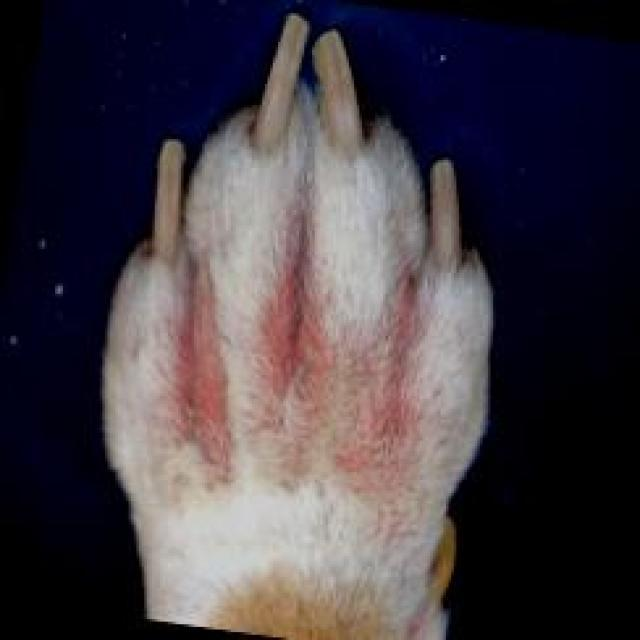allergic dermatitis: (356, 284, 419, 502), (258, 252, 324, 450), (173, 286, 235, 489)
